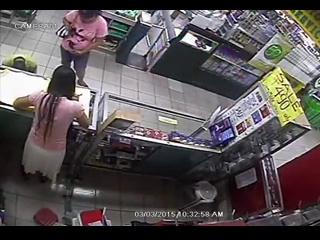Normal: (12, 65, 92, 190), (56, 10, 108, 88)
